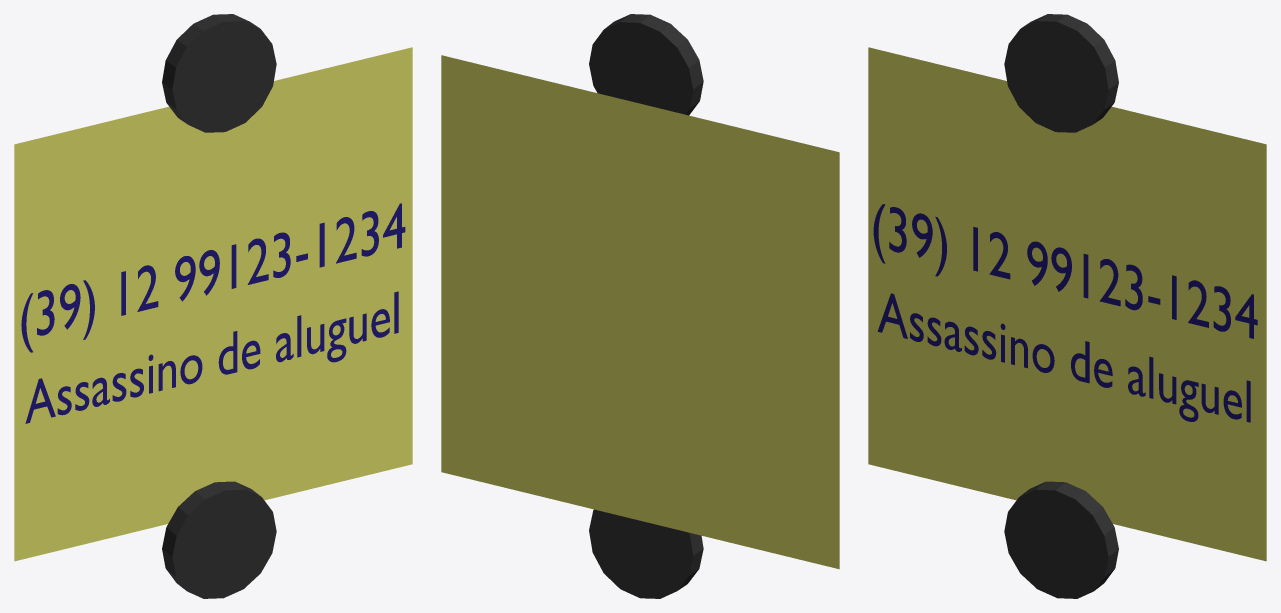
File: Numero Do telefone Geladeira.fbx
3 views of the same model, side by side, from view 1: azimuth 30°, elevation 25°; view 2: azimuth 150°, elevation 25°; view 3: azimuth 330°, elevation 25° (orthographic).
Parts seen in each view (by area): view 1: Plane, Cylinder, Cylinder.001, Text.009, Text.010; view 2: Plane, Cylinder, Cylinder.001; view 3: Plane, Cylinder, Cylinder.001, Text.009, Text.010.
Part boxes in pixels (box(x1,y1,x2,y2)): Plane: box(14, 47, 412, 561); Cylinder: box(162, 14, 276, 132); Cylinder.001: box(162, 481, 276, 598); Text.009: box(21, 203, 405, 352); Text.010: box(25, 291, 398, 423); Plane: box(441, 55, 839, 569); Cylinder: box(589, 14, 703, 115); Cylinder.001: box(589, 509, 703, 598); Plane: box(868, 47, 1266, 561); Cylinder: box(1004, 14, 1118, 132); Cylinder.001: box(1004, 481, 1118, 598); Text.009: box(873, 204, 1257, 338); Text.010: box(877, 293, 1250, 422).
Size of the model in its own units: 200 by 276 by 10.63.
